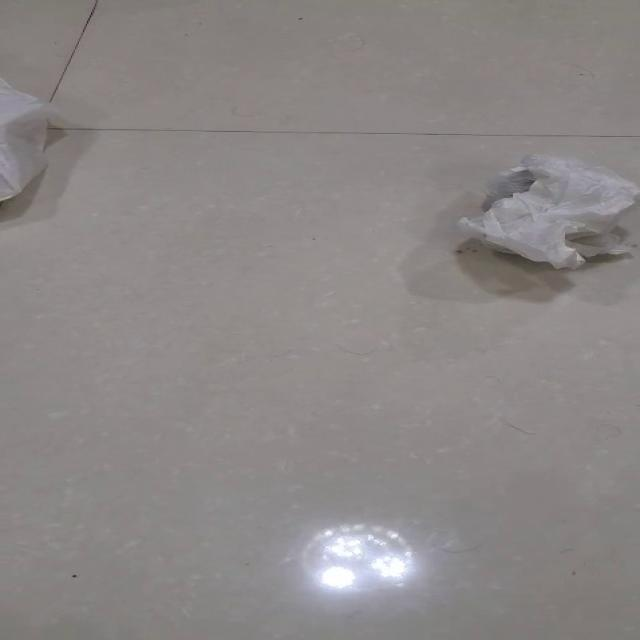plastic: (458, 153, 637, 269), (0, 77, 50, 202)
